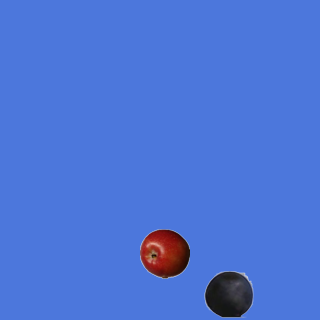Apple Braeburn: (139, 228, 189, 278)
Grape Blue: (203, 268, 253, 318)
